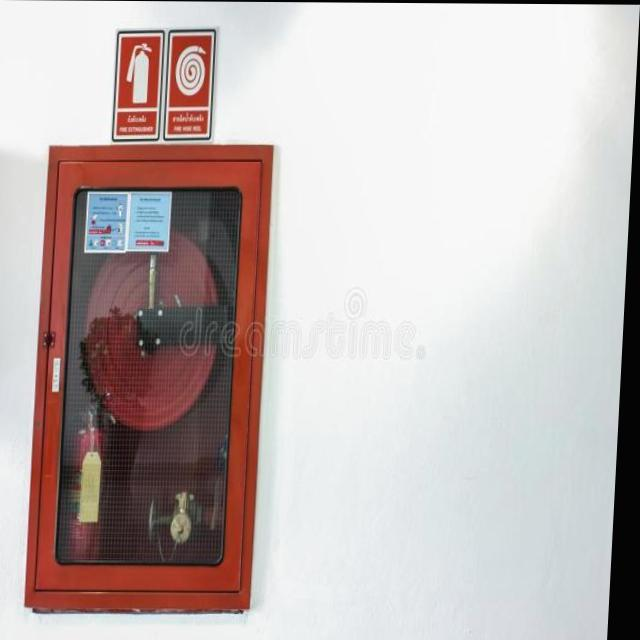FireExtinguisher: (52, 404, 123, 597)
